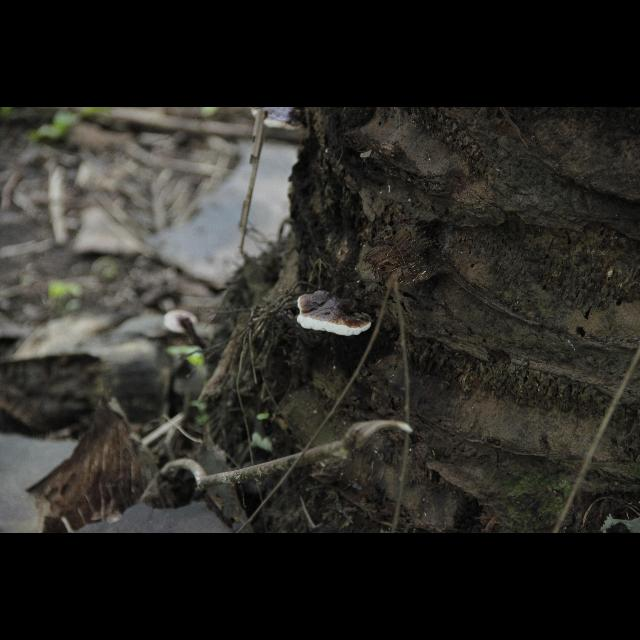ganoderma: (298, 292, 373, 339), (249, 108, 305, 132), (165, 310, 200, 336)
